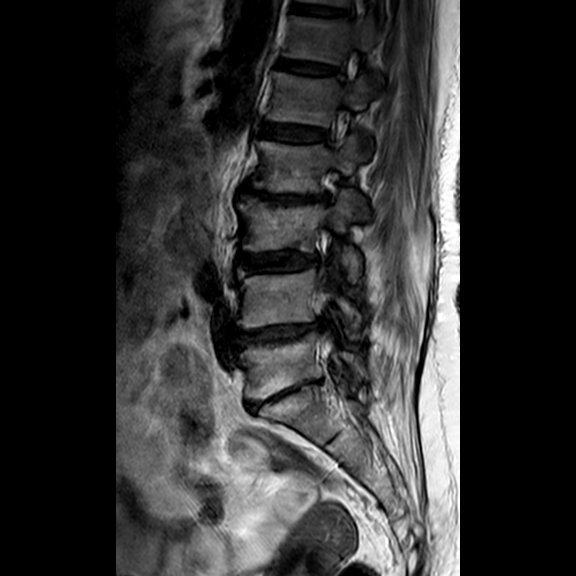LFS0: (315, 95, 360, 151)
LFS1: (310, 155, 354, 212)
